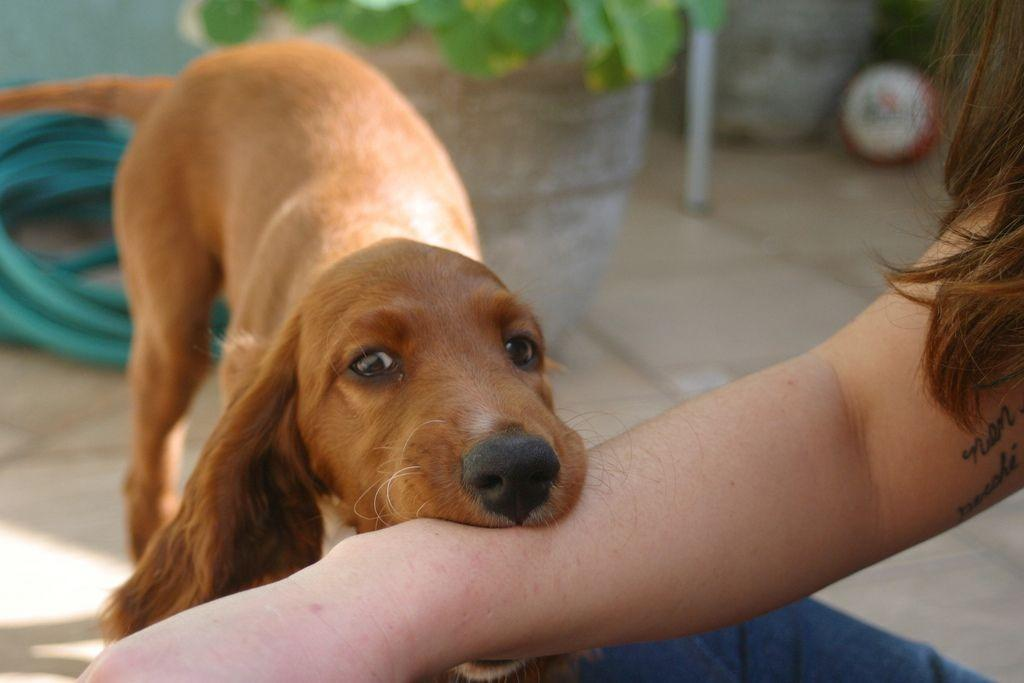non-dog: (82, 3, 1024, 683)
puppy-dog: (1, 28, 587, 665)
